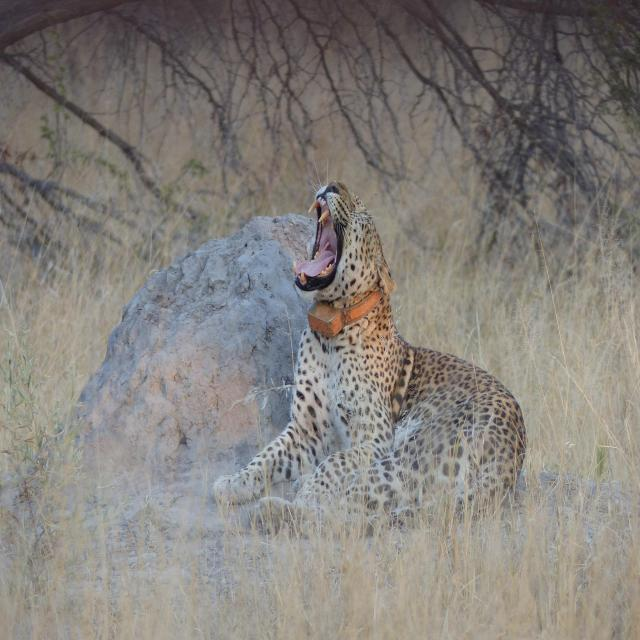Leopard: (217, 182, 542, 541)
